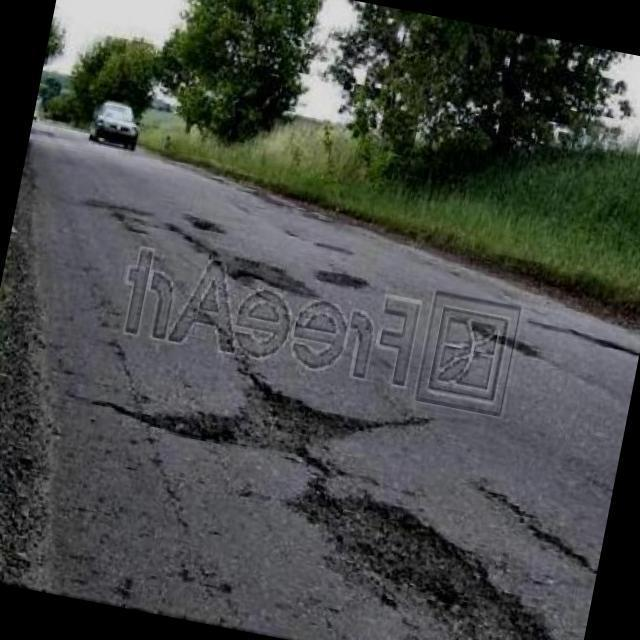Pothole: (299, 487, 550, 640), (91, 375, 434, 479)
